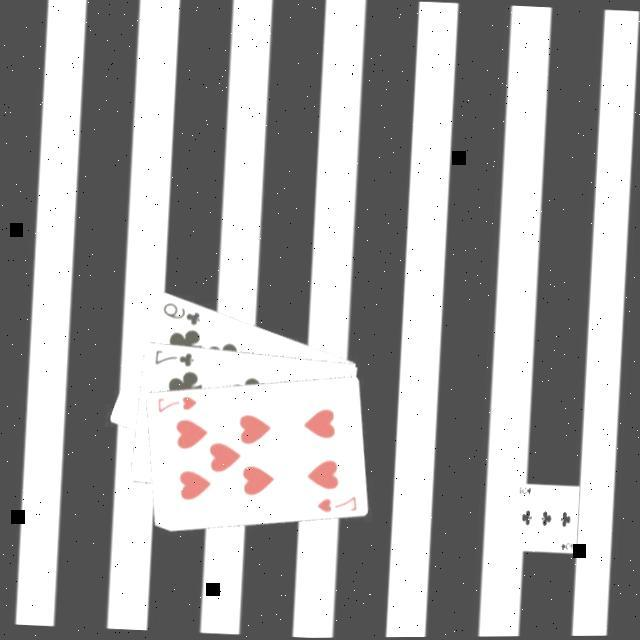7C: (151, 348, 198, 372)
7H: (314, 493, 361, 519), (154, 393, 200, 419)
9C: (158, 301, 206, 331)
